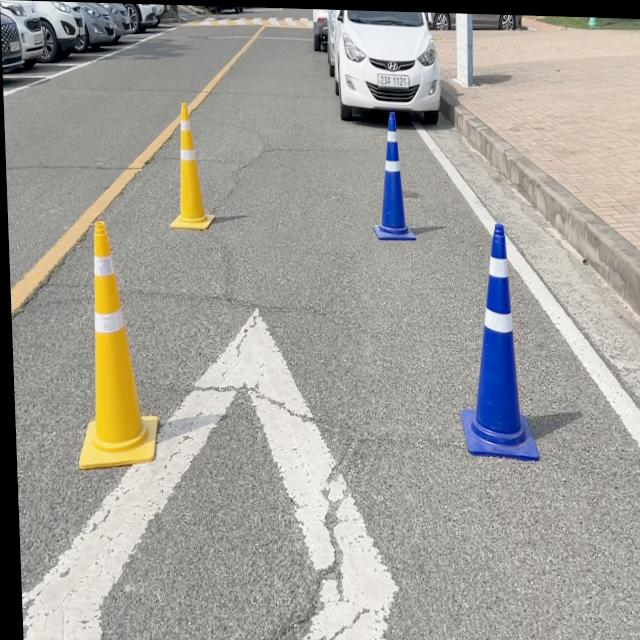b_rub: (458, 219, 537, 457), (372, 108, 414, 237)
y_rub: (75, 220, 154, 468), (168, 100, 213, 227)
